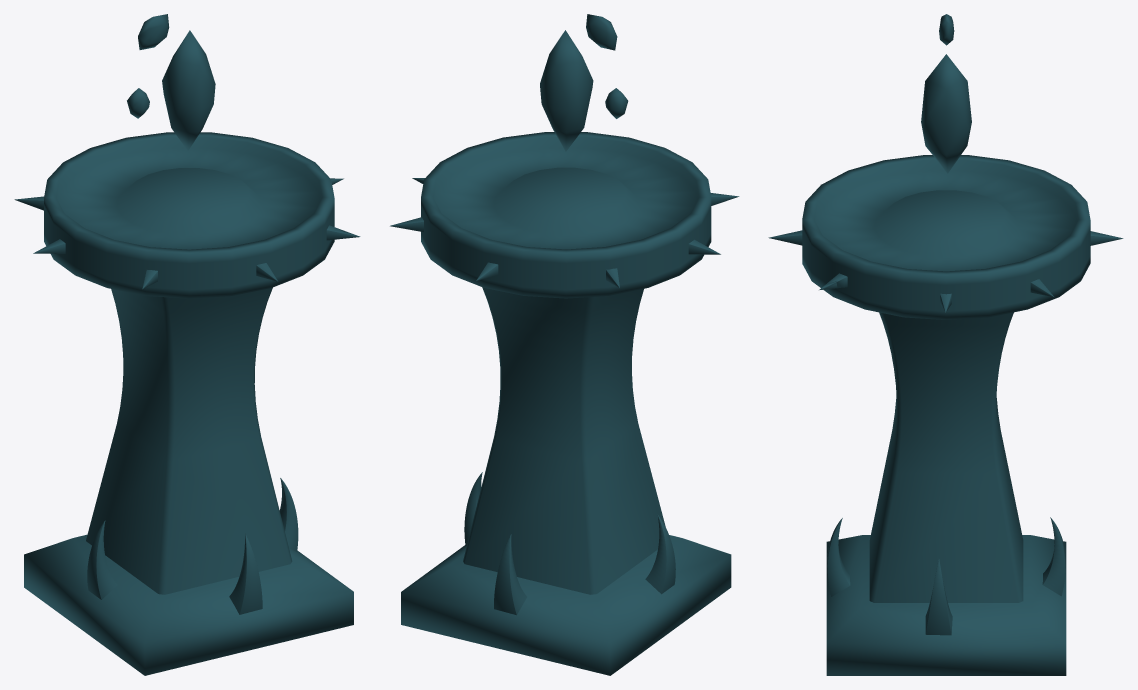
The model's file is tower_LP.fbx.
3 renders of one model, left to right at view 1: azimuth 30°, elevation 25°; view 2: azimuth 150°, elevation 25°; view 3: azimuth 270°, elevation 25°, orthographic.
Visible parts, largest first — view 1: tronc_LP, haut_LP, socle_LP, rubis_LP, pic_socle_LP, pic_haut_LP; view 2: tronc_LP, haut_LP, socle_LP, rubis_LP, pic_socle_LP, pic_haut_LP; view 3: haut_LP, tronc_LP, socle_LP, rubis_LP, pic_socle_LP, pic_haut_LP.
Part boxes in pixels (x1,y1,x2,y2): tronc_LP: (86,287,292,594); haut_LP: (44,132,334,298); socle_LP: (24,534,353,675); rubis_LP: (127,14,215,150); pic_socle_LP: (87,478,298,614); pic_haut_LP: (14,178,360,289); tronc_LP: (463,287,665,594); haut_LP: (421,132,711,298); socle_LP: (401,535,731,675); rubis_LP: (540,14,628,151); pic_socle_LP: (464,472,675,615); pic_haut_LP: (390,178,739,287); haut_LP: (802,155,1090,319); tronc_LP: (869,312,1023,602); socle_LP: (826,535,1066,675); rubis_LP: (921,14,971,173); pic_socle_LP: (827,517,1065,635); pic_haut_LP: (768,230,1123,312).
Bounding box in the file's own units: 148 × 272 × 148.
